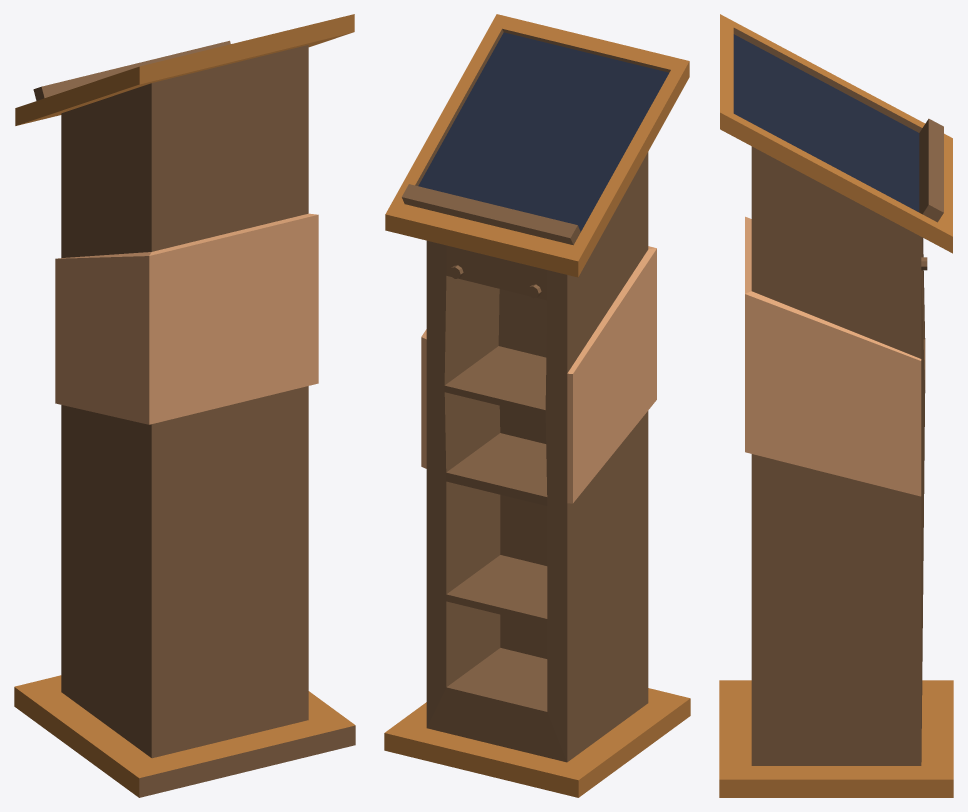
The model's file is LecturePodium.fbx.
The picture shows the model from 3 angles, left to right: view 1: azimuth 30°, elevation 25°; view 2: azimuth 150°, elevation 25°; view 3: azimuth 270°, elevation 25°; orthographic projection. The views are drawn at different scales.
Parts seen in each view (by area): view 1: Cube; view 2: Cube; view 3: Cube.
Part boxes in pixels (left/top/right/bottom): Cube: left=14, top=14, right=355, bottom=797; Cube: left=384, top=14, right=690, bottom=797; Cube: left=719, top=14, right=953, bottom=797.
Size of the model in its own units: 658 by 2122 by 658.
